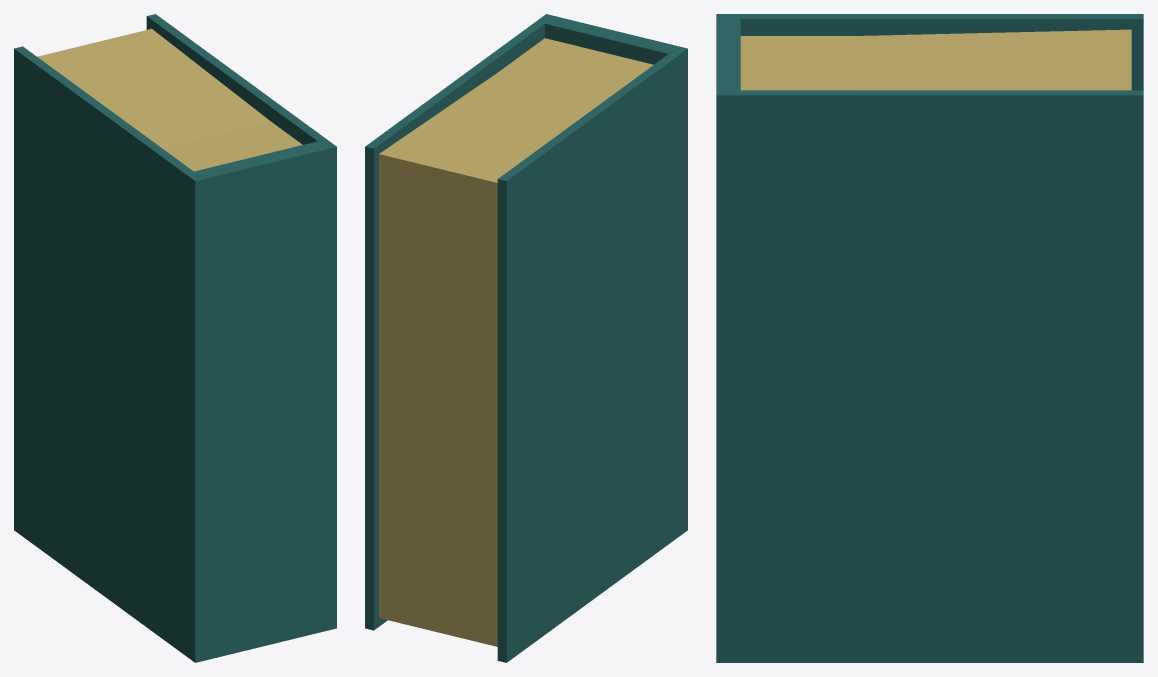
Rendered from CPI441_Fur_BookSingular_LightBlue.fbx.
3 renders of one model, left to right at view 1: azimuth 30°, elevation 25°; view 2: azimuth 150°, elevation 25°; view 3: azimuth 270°, elevation 25°, orthographic. The views are drawn at different scales.
Visible parts, largest first — view 1: Cube; view 2: Cube; view 3: Cube.
Boxes of the visible parts, x1,y1,x2,y2 form: Cube: [14, 14, 336, 662]; Cube: [365, 14, 687, 662]; Cube: [716, 14, 1143, 662].
Bounding box in the file's own units: 49.65 × 161 × 110.
